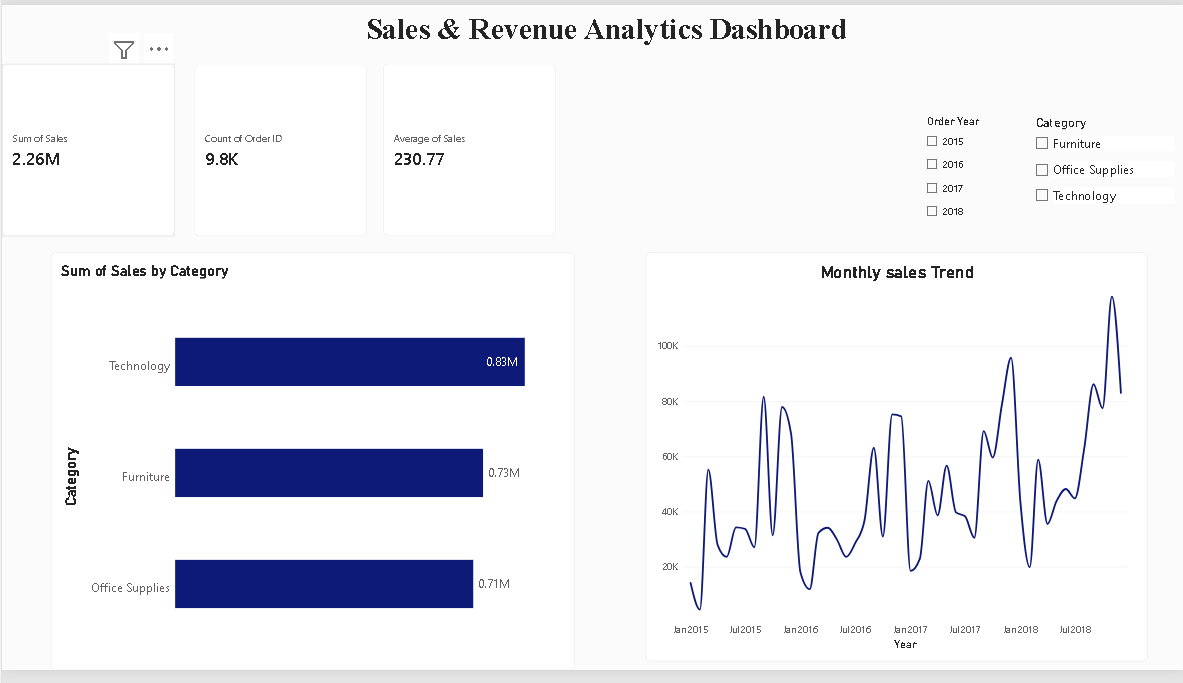

The page's visual inventory and layout, read from the dashboard file:
{"tool":"powerbi","page":{"name":"Page 1","canvas":[1920,1080],"ordinal":0},"visuals":[{"type":"cardVisual","fields":{"Data":["Sum(cleaned_sales.Sales)"]},"box":[0,95.7,280,280],"z":0},{"type":"cardVisual","fields":{"Data":["CountNonNull(cleaned_sales.Order ID)"]},"box":[313,95.7,280,280],"z":1000},{"type":"cardVisual","fields":{"Data":["Avg(cleaned_sales.Sales)"]},"box":[619.6,95.7,280,280],"z":2000},{"type":"clusteredBarChart","fields":{"Category":["cleaned_sales.Category"],"Y":["Sum(cleaned_sales.Sales)"]},"box":[78.7,402.1,850,678.3],"z":3000},{"type":"lineChart","title":"Monthly sales Trend","fields":{"Category":["cleaned_sales.Order Date.Variation.Date Hierarchy.Year","cleaned_sales.Order Date.Variation.Date Hierarchy.Month"],"Y":["Sum(cleaned_sales.Sales)"]},"box":[1044.7,402.1,814.9,663.8],"z":4000},{"type":"slicer","fields":{"Values":["cleaned_sales.Order Year"]},"box":[1493.6,178.7,168.1,180.9],"z":5000},{"type":"slicer","fields":{"Values":["cleaned_sales.Category"]},"box":[1670.2,178.7,232.9,181.4],"z":6000},{"type":"textbox","box":[471.7,10.9,1021.7,84.8],"z":7000}]}

Visuals, with their boxes in screenshot pixels (x1, y1, x2, y2), scaled from the page's 1920x1080 canvas onto the 1183x683 screenshot:
cardVisual - Sum(cleaned_sales.Sales): x1=0 y1=61 x2=173 y2=238
cardVisual - CountNonNull(cleaned_sales.Order ID): x1=193 y1=61 x2=365 y2=238
cardVisual - Avg(cleaned_sales.Sales): x1=382 y1=61 x2=554 y2=238
clusteredBarChart - cleaned_sales.Category x Sum(cleaned_sales.Sales): x1=48 y1=254 x2=572 y2=682
"Monthly sales Trend" lineChart: x1=644 y1=254 x2=1146 y2=674
slicer - cleaned_sales.Order Year: x1=920 y1=113 x2=1024 y2=227
slicer - cleaned_sales.Category: x1=1029 y1=113 x2=1173 y2=228
textbox: x1=291 y1=7 x2=920 y2=61
